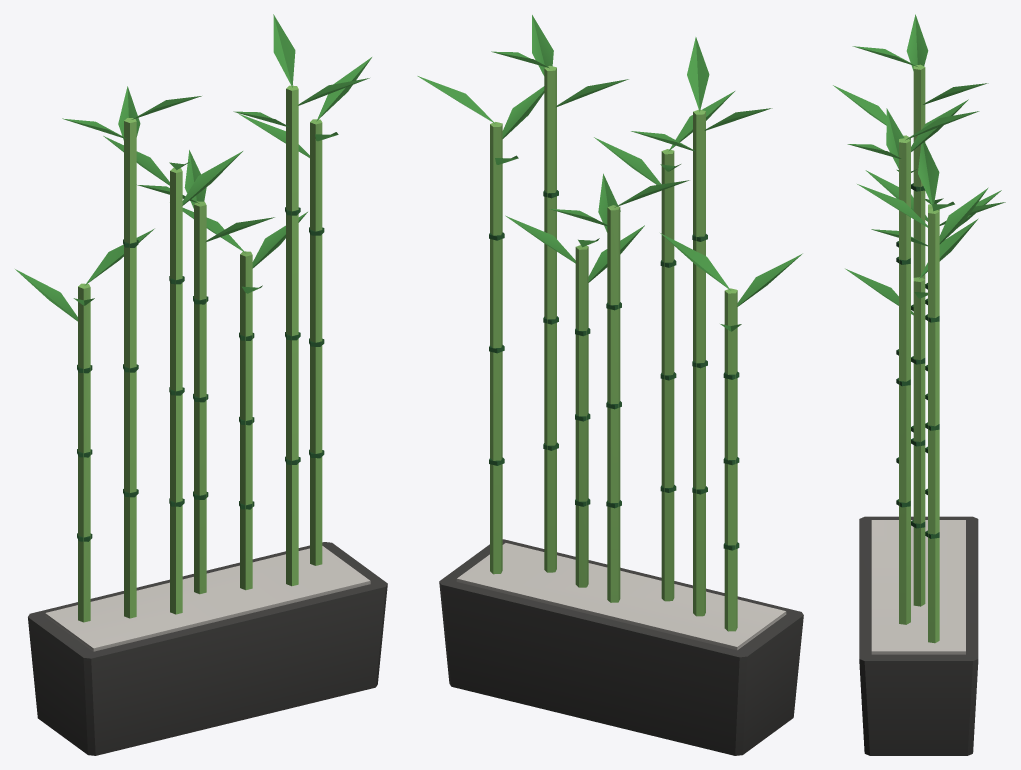
Rendered from plant_bamboo_01.glb.
The picture shows the model from 3 angles, left to right: view 1: azimuth 30°, elevation 25°; view 2: azimuth 150°, elevation 25°; view 3: azimuth 270°, elevation 25°; orthographic projection. The views are drawn at different scales.
Parts seen in each view (by area): view 1: plant_bamboo_01_mesh; view 2: plant_bamboo_01_mesh; view 3: plant_bamboo_01_mesh.
Boxes of the visible parts, x1,y1,x2,y2 form: plant_bamboo_01_mesh: (15,14,387,755); plant_bamboo_01_mesh: (417,15,803,755); plant_bamboo_01_mesh: (833,14,1005,755).
Bounding box in the file's own units: 1.04 × 1.9 × 0.4837.
Materials: 1 (1 with a texture image).
